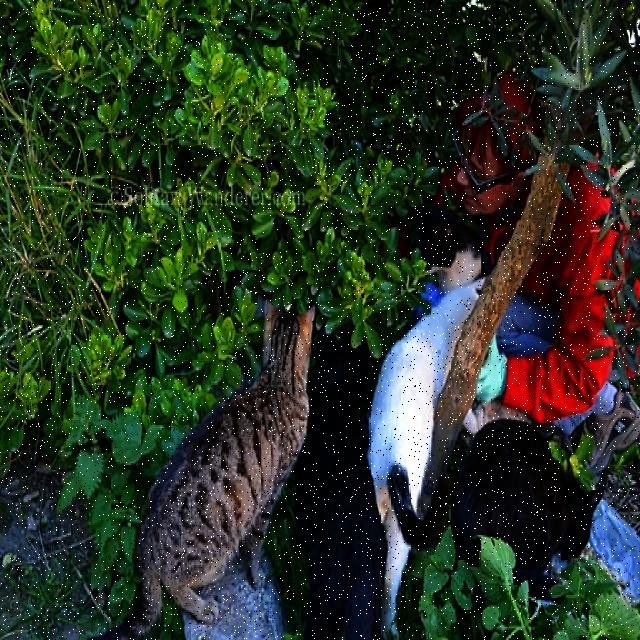cat: (101, 300, 313, 638), (368, 279, 483, 635), (296, 339, 386, 638), (455, 420, 602, 597), (418, 204, 482, 292)
